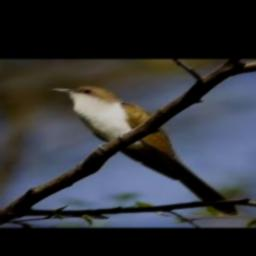Cuckoo: (49, 86, 239, 215)
